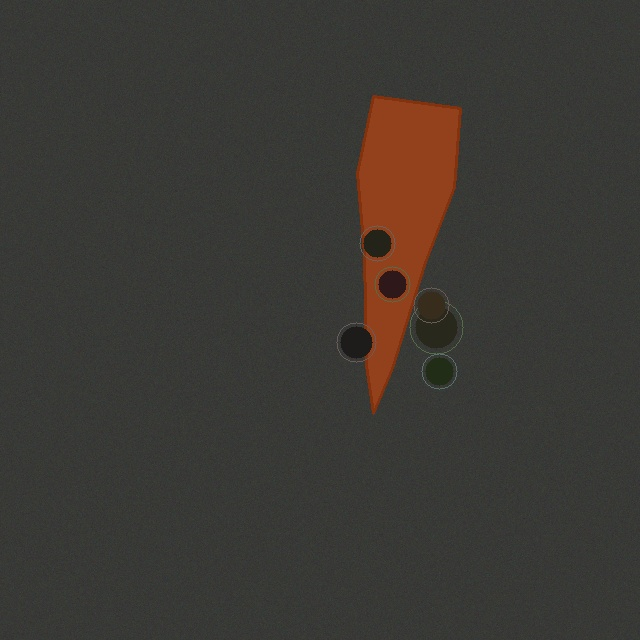Rotten_Carrot: (349, 88, 468, 421)
